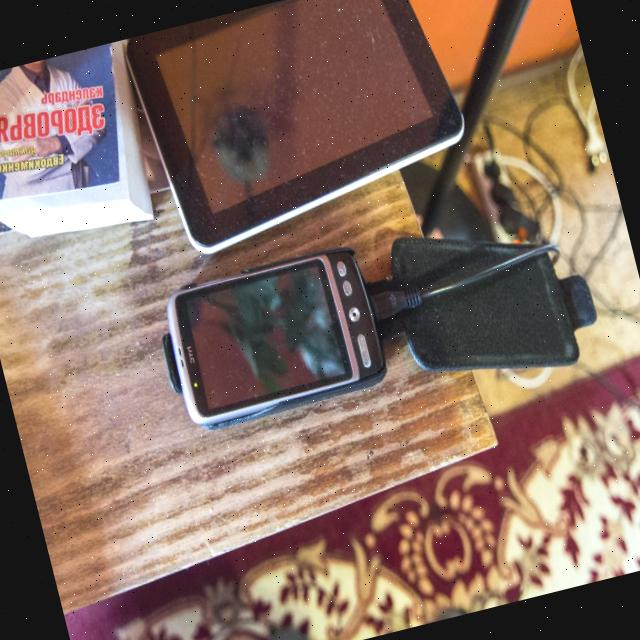Phone: (115, 0, 495, 277), (141, 232, 401, 449)
